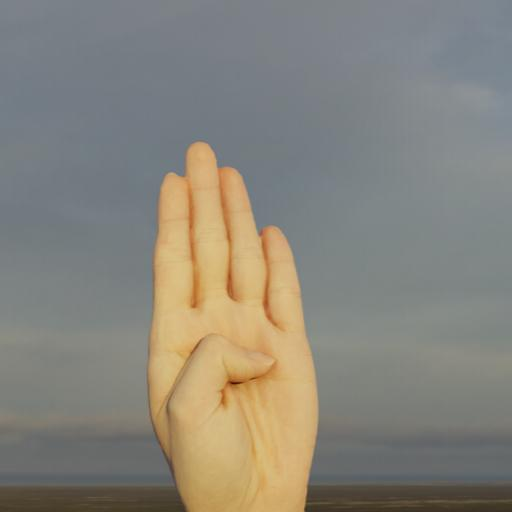B: (139, 129, 321, 512)
